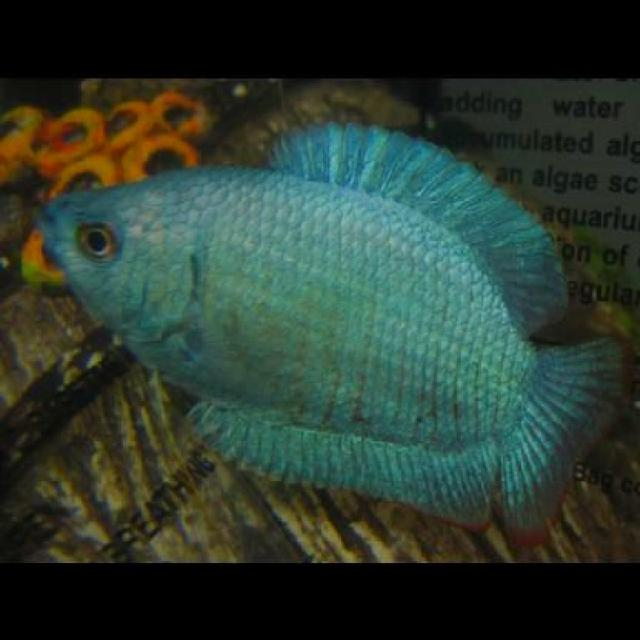Gourami: (32, 120, 626, 538)
